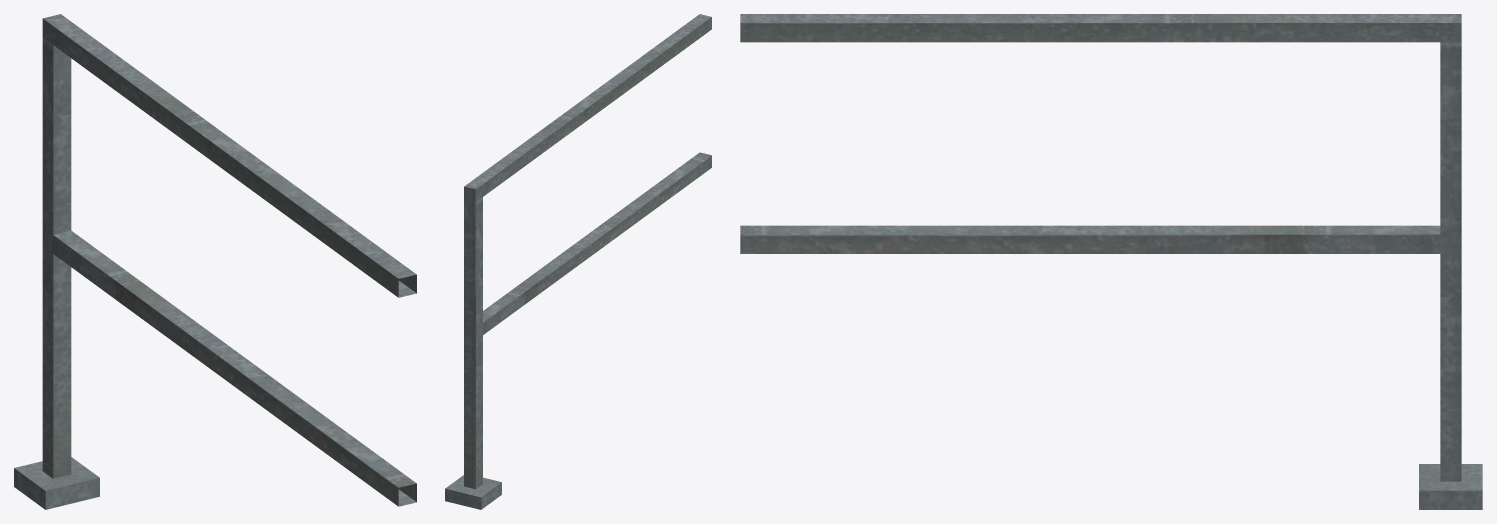
File: eSK_fence01_top_fence.FBX
The picture shows the model from 3 angles, left to right: view 1: azimuth 30°, elevation 25°; view 2: azimuth 150°, elevation 25°; view 3: azimuth 270°, elevation 25°; orthographic projection. The views are drawn at different scales.
Parts seen in each view (by area): view 1: Object1; view 2: Object1; view 3: Object1.
Boxes of the visible parts, bbox=[...] form: Object1: bbox=[14, 14, 416, 509]; Object1: bbox=[445, 14, 711, 509]; Object1: bbox=[740, 14, 1482, 509].
Bounding box in the file's own units: 0.15 × 1.24 × 1.75.
1 material, 1 textured.
